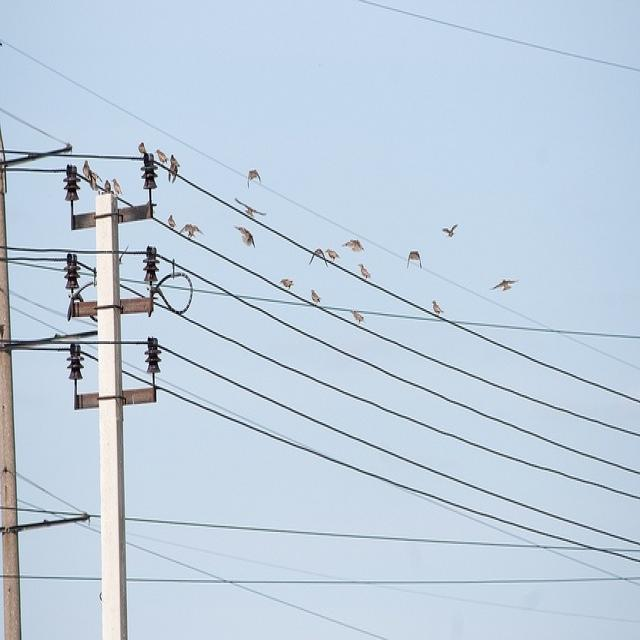Cable: (3, 23, 640, 636)
